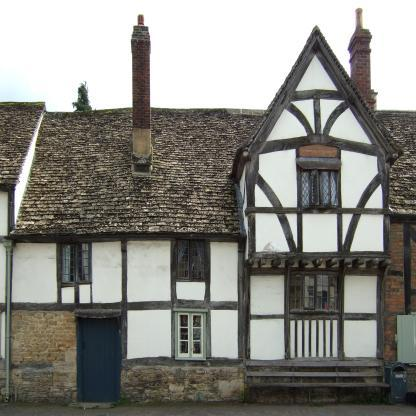Building Outline: (0, 8, 416, 405)
Cornice: (296, 144, 342, 169), (73, 309, 122, 318), (173, 308, 208, 312)
Dont: (245, 361, 391, 404)
Door: (82, 315, 118, 403)
Facade: (0, 108, 416, 404)
Floor: (1, 236, 250, 298)
Floor Slab: (1, 298, 250, 303), (250, 249, 389, 257)
Ground Floor: (0, 256, 386, 404)
Roof: (0, 24, 416, 238)
Top Floor: (250, 40, 389, 249)
Window: (289, 274, 339, 310), (300, 171, 338, 207), (61, 243, 90, 284), (178, 312, 203, 358), (177, 240, 205, 281)
